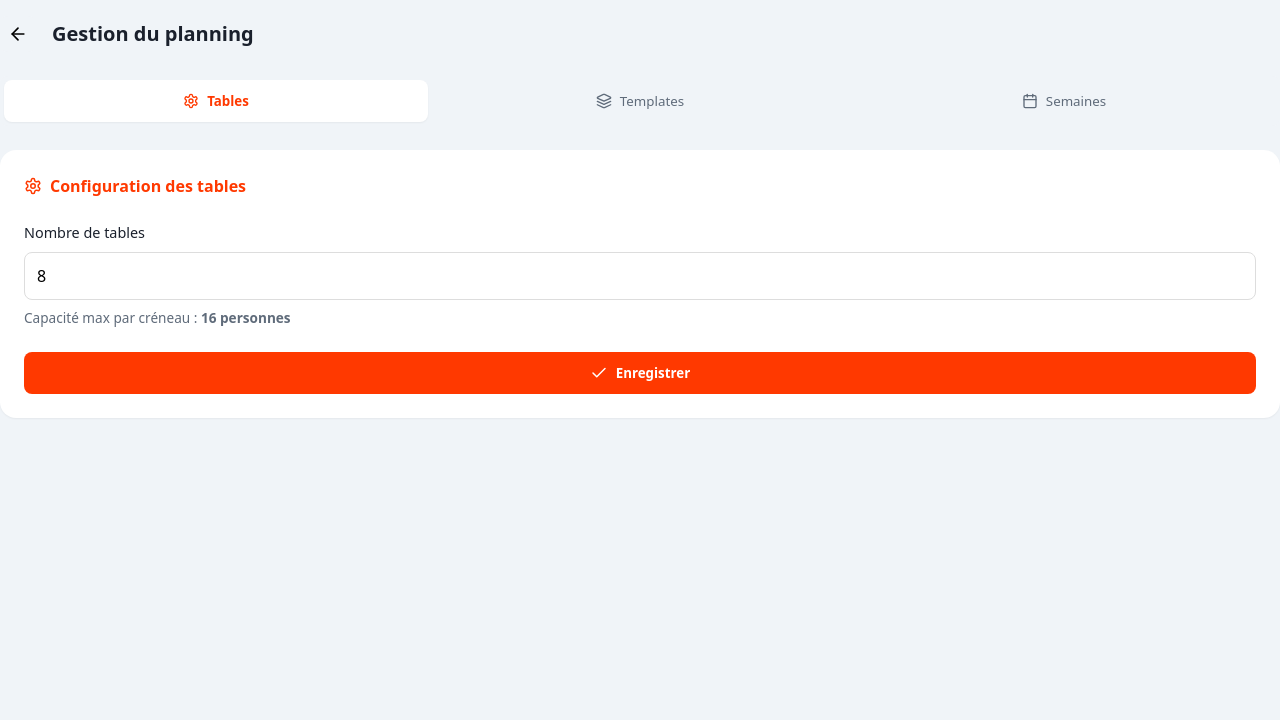
PlanningSettings › ouvre la modal de création au clic sur Nouveau
The image size is (1280, 720).
Expected: the button "Tables" is shown, left=4, top=80, right=428, bottom=122
Click the button "Templates": (640, 101) left=428, top=80, right=852, bottom=122
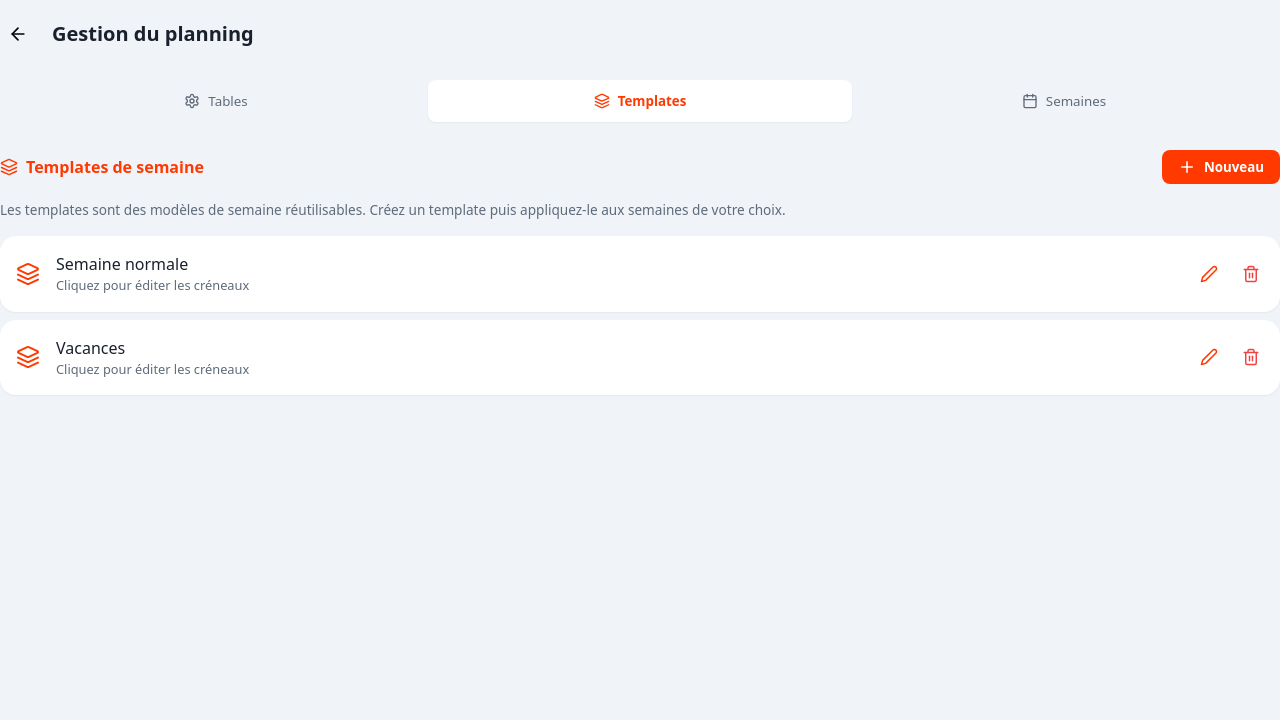
Click the button "Nouveau": (1221, 167) left=1162, top=150, right=1279, bottom=184
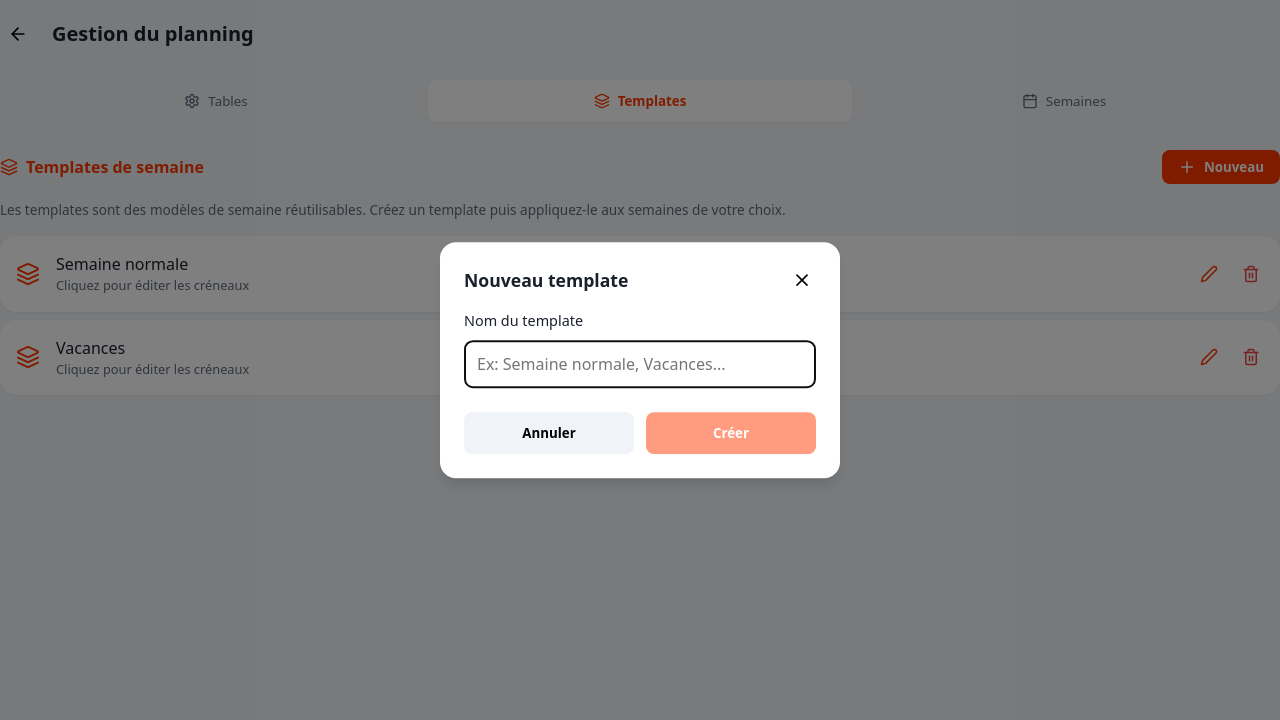
Result: the heading "Nouveau template" is shown at left=464, top=267, right=628, bottom=293
